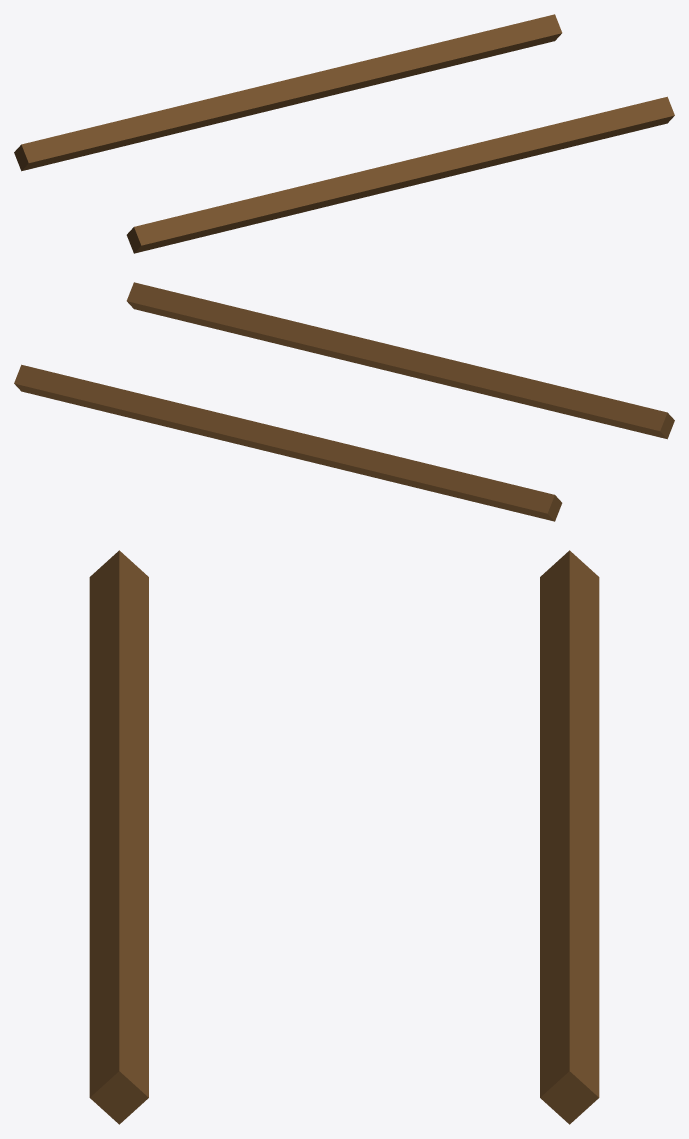
3 renders of one model, top to bottom at view 1: azimuth 30°, elevation 25°; view 2: azimuth 150°, elevation 25°; view 3: azimuth 270°, elevation 25°, orthographic. The views are drawn at different scales.
Parts seen in each view (by area): view 1: 桥底双梁.001; view 2: 桥底双梁.001; view 3: 桥底双梁.001.
Part boxes in pixels (bbox=[...]): 桥底双梁.001: bbox=[14, 14, 674, 253]; 桥底双梁.001: bbox=[14, 282, 674, 521]; 桥底双梁.001: bbox=[89, 550, 599, 1124].
Bounding box in the file's own units: 1.04 × 0.05 × 0.43.
